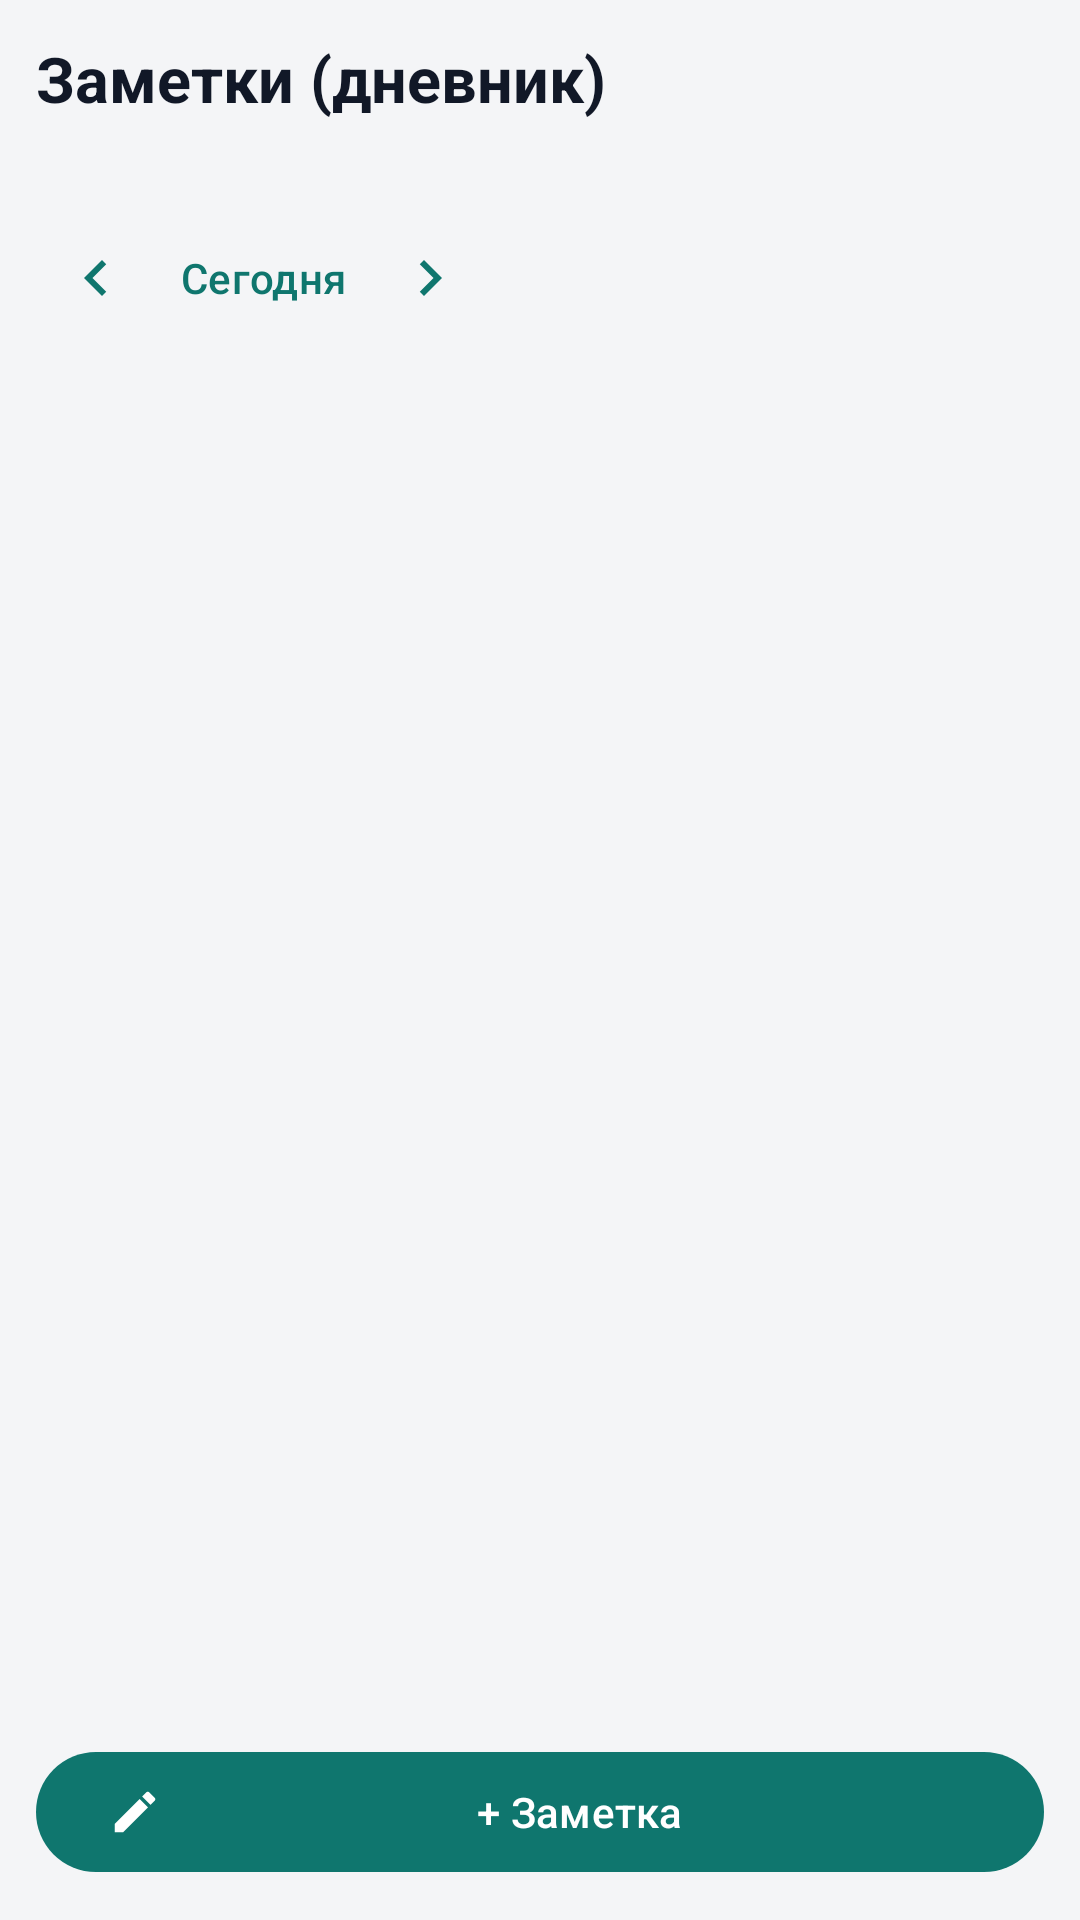

Screen size 1080px x 1920px. Icon name, then its box in pixels as (x1, y1, x2, y2):
Предыдущий день: (84, 260, 106, 296)
Следующий день: (420, 260, 442, 296)
